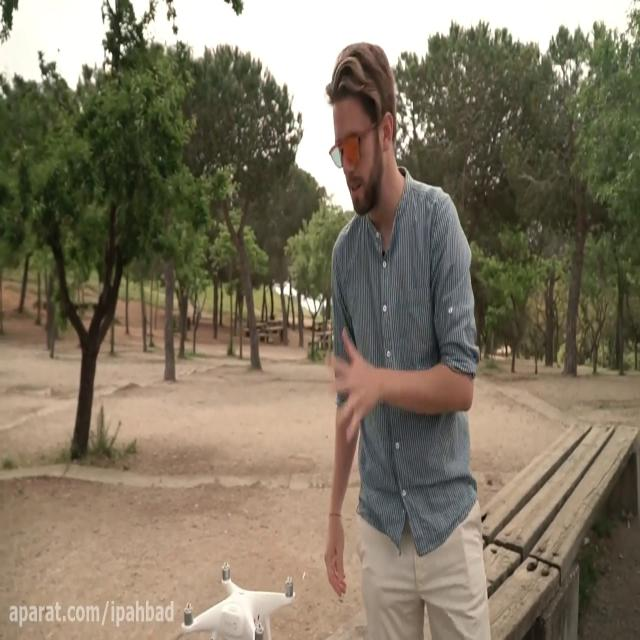drone: (179, 559, 299, 639)
